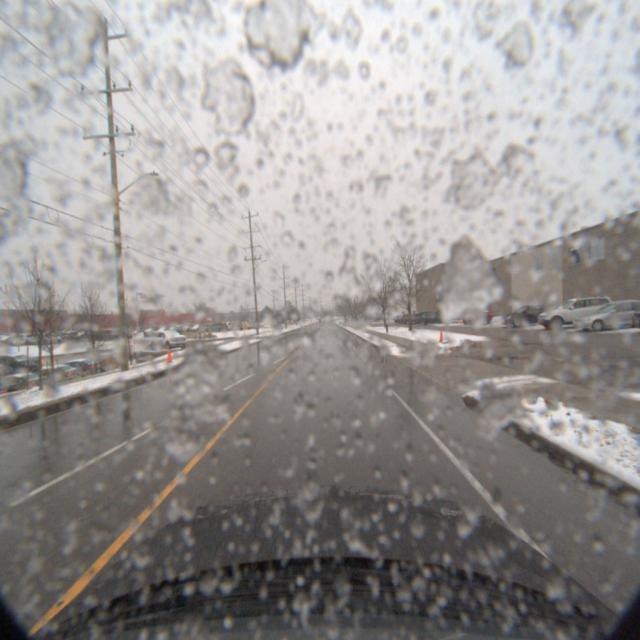Car: (529, 293, 616, 329), (493, 302, 558, 328), (457, 306, 492, 325), (413, 311, 447, 325)
Truck: (146, 329, 188, 353)
